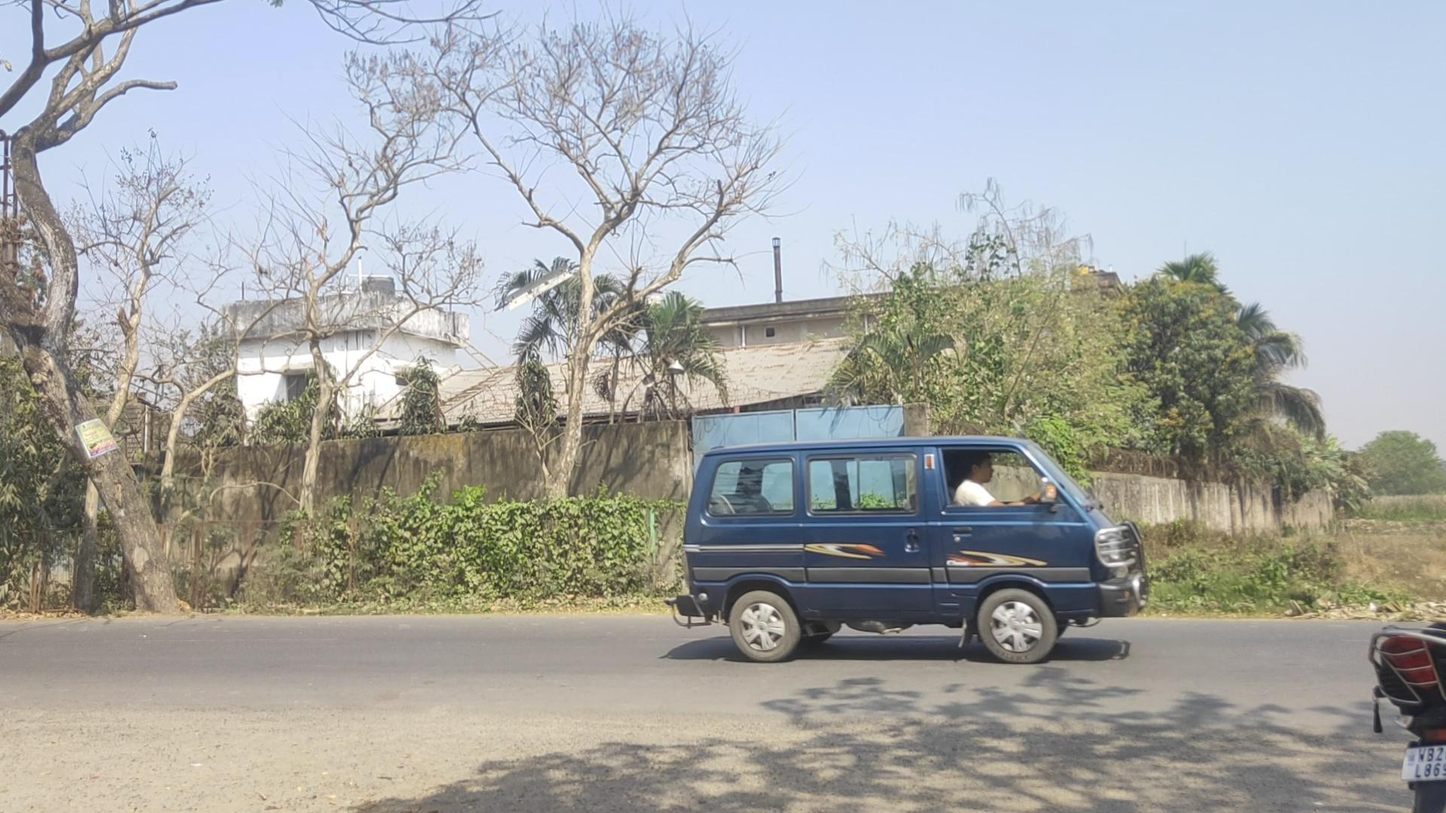van: (664, 434, 1152, 663)
